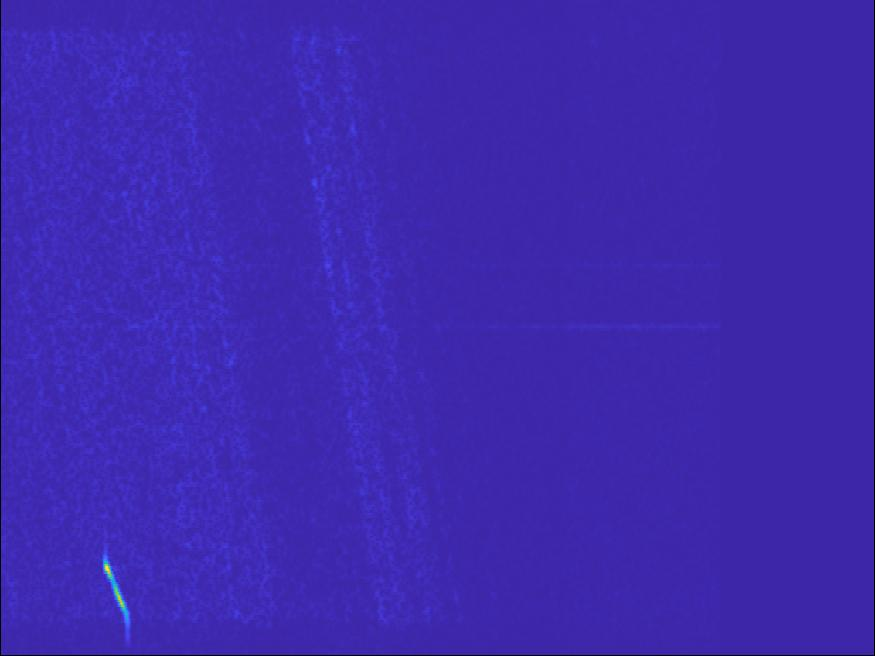Interference: (103, 83, 235, 135), (505, 304, 631, 355)
